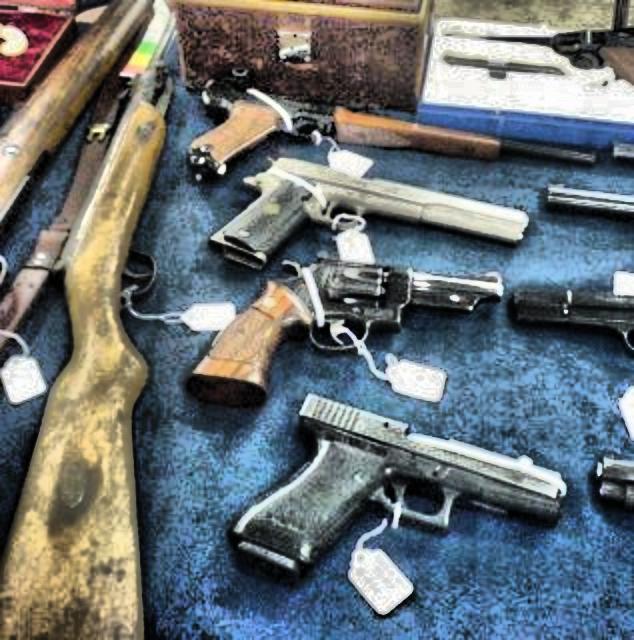pistol: (212, 392, 572, 578), (182, 252, 506, 408), (194, 150, 532, 272)
